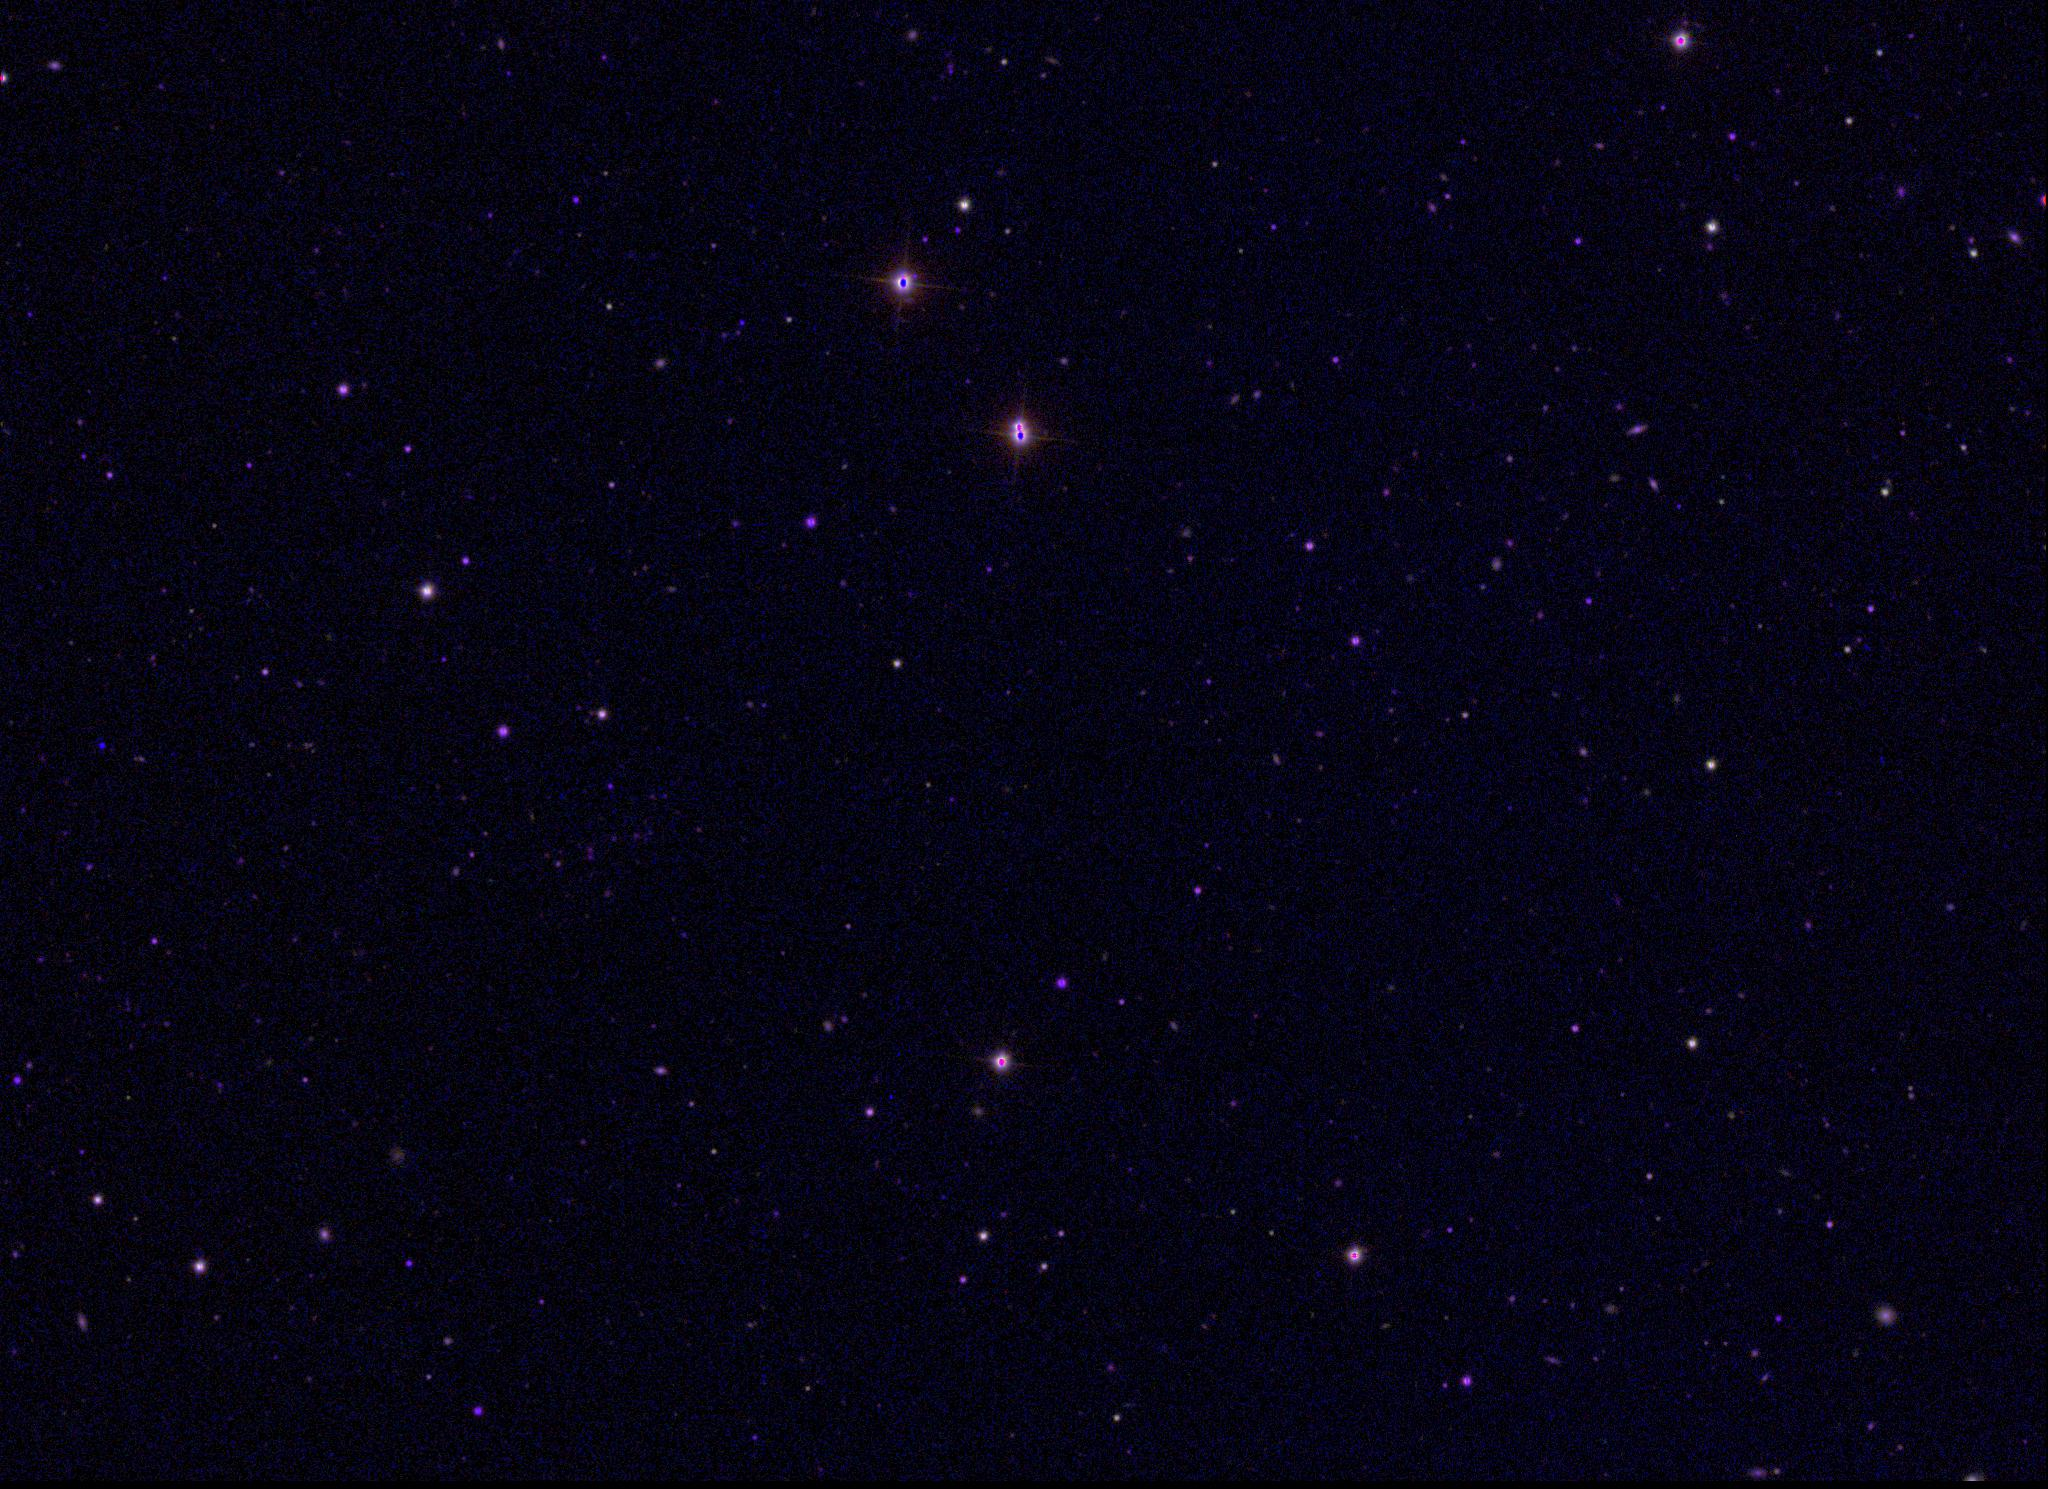L: (95, 738, 110, 752)
